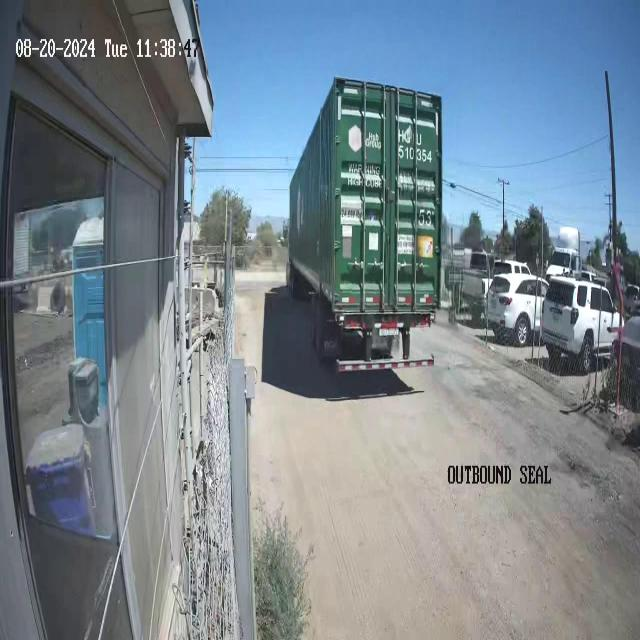CONTAINER: (288, 75, 444, 322)
